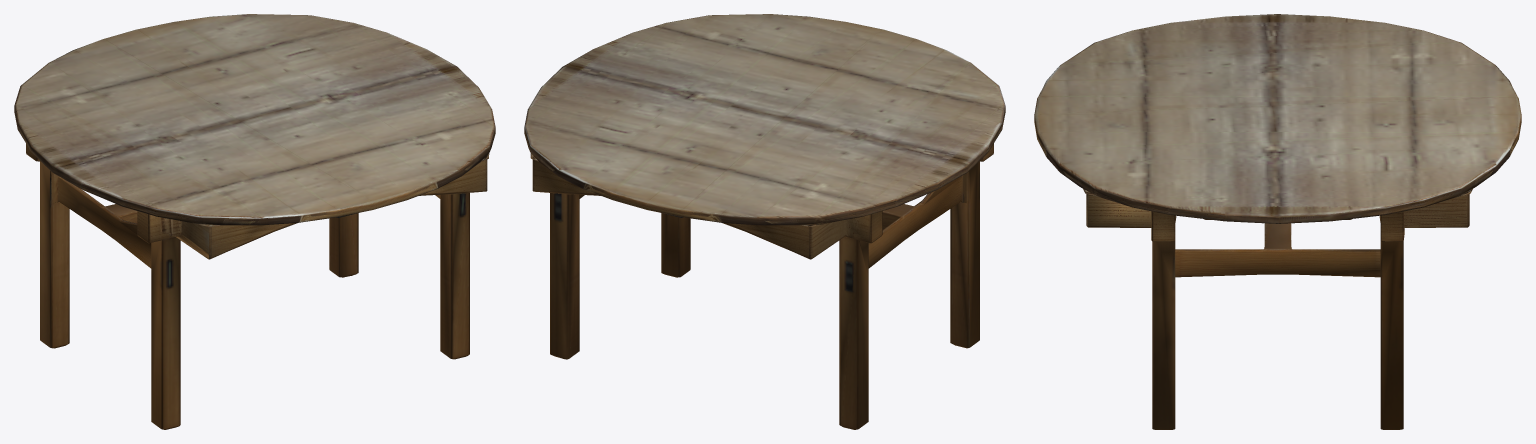
File: Table_60_Round_Plank_0403041519_texture.glb
The picture shows the model from 3 angles, left to right: view 1: azimuth 30°, elevation 25°; view 2: azimuth 150°, elevation 25°; view 3: azimuth 270°, elevation 25°; orthographic projection. The views are drawn at different scales.
Parts seen in each view (by area): view 1: Mesh_0; view 2: Mesh_0; view 3: Mesh_0.
Part boxes in pixels (box(x1,y1,x2,y2)): Mesh_0: box(14, 14, 495, 429); Mesh_0: box(524, 14, 1005, 429); Mesh_0: box(1034, 14, 1521, 429).
Size of the model in its own units: 1.38 by 0.762 by 1.4.
1 material, 1 textured.
